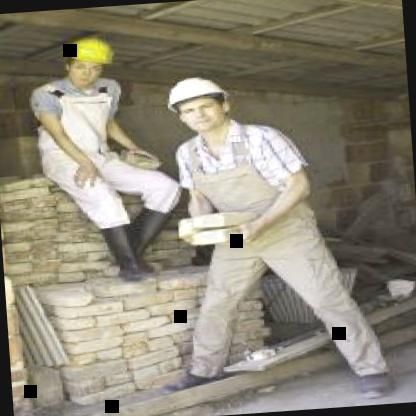helmet: (159, 68, 238, 138), (60, 34, 116, 87)
